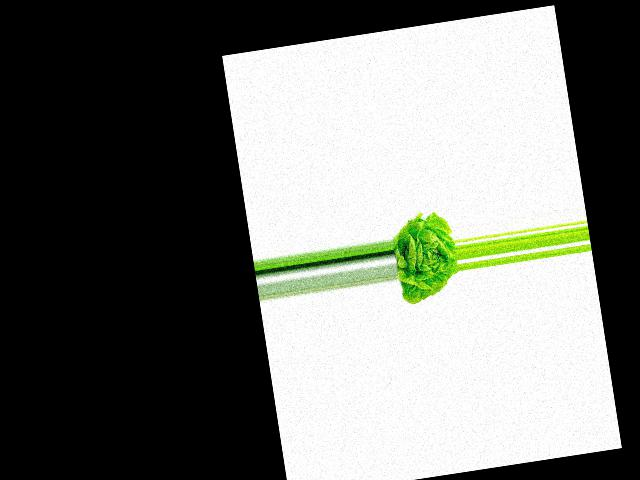lettuce: (388, 211, 462, 307)
